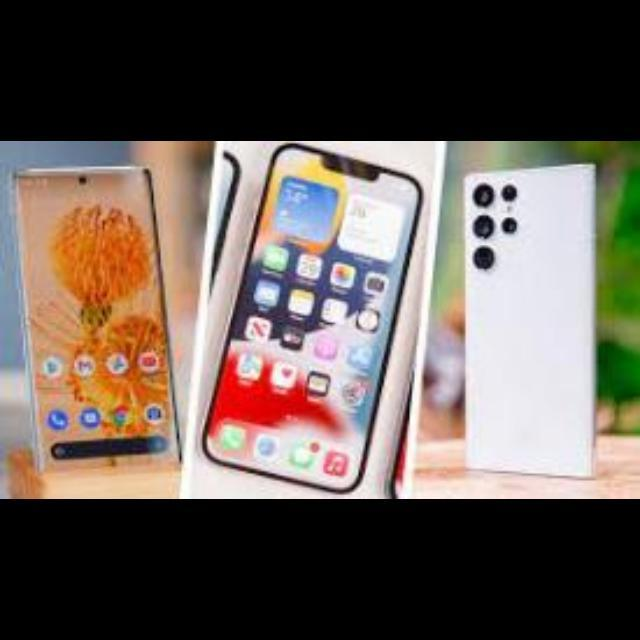Phone: (195, 147, 425, 489), (7, 166, 179, 498), (461, 172, 602, 478)
